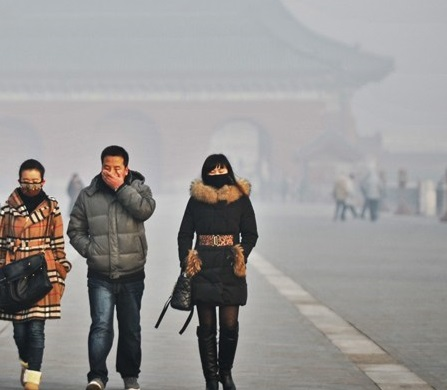person: (67, 141, 156, 390), (171, 151, 262, 390), (2, 157, 68, 390), (363, 165, 383, 224), (341, 170, 361, 222), (331, 179, 349, 220), (68, 173, 83, 212)
